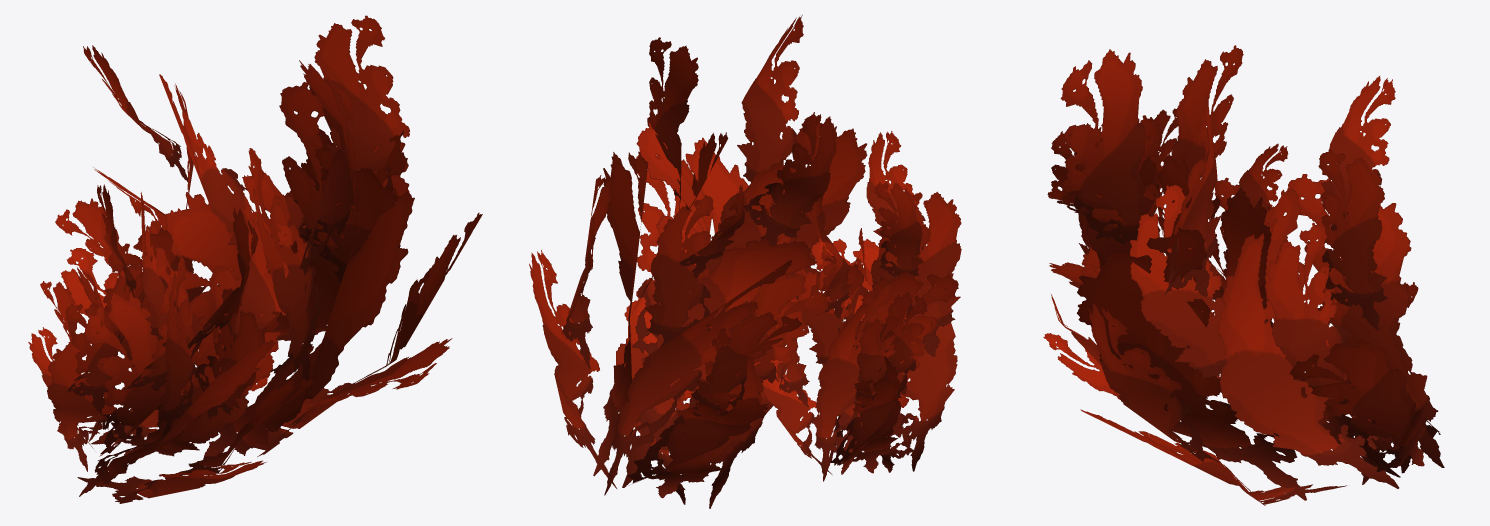
File: Red Algae 3_preview_3DS_simplified.glb
3 views of the same model, side by side, from view 1: azimuth 30°, elevation 25°; view 2: azimuth 150°, elevation 25°; view 3: azimuth 270°, elevation 25° (orthographic). The views are drawn at different scales.
Parts seen in each view (by area): view 1: Marine Park Empire model; view 2: Marine Park Empire model; view 3: Marine Park Empire model.
Boxes of the visible parts, x1=… form: Marine Park Empire model: x1=28, y1=15, x2=482, y2=503; Marine Park Empire model: x1=529, y1=14, x2=961, y2=508; Marine Park Empire model: x1=1043, y1=45, x2=1444, y2=505.
Bounding box in the file's own units: 105 × 124 × 107.
1 material, 1 textured.
